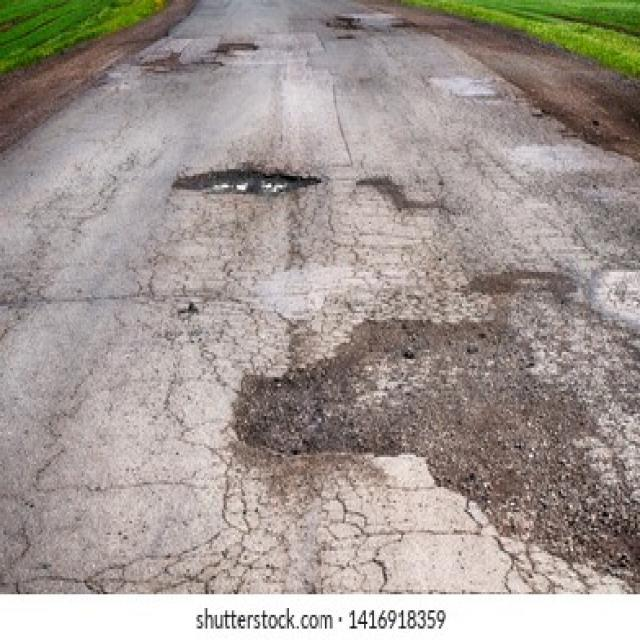Pothole: (233, 316, 640, 578), (172, 166, 318, 196), (138, 58, 224, 76), (210, 41, 258, 55), (324, 16, 360, 30), (338, 34, 354, 41)
